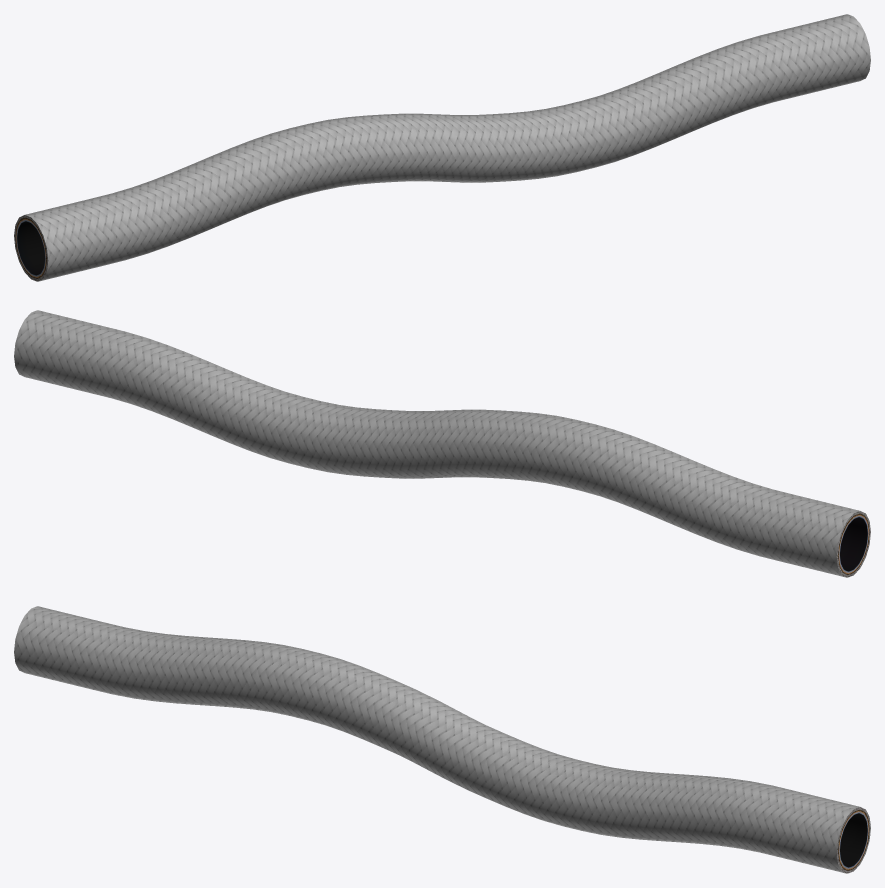
3 views of the same model, one above another, from view 1: azimuth 30°, elevation 25°; view 2: azimuth 150°, elevation 25°; view 3: azimuth 330°, elevation 25° (orthographic).
Parts seen in each view (by area): view 1: Stainless_Steel_Braid-20.001; view 2: Stainless_Steel_Braid-20.001; view 3: Stainless_Steel_Braid-20.001.
Boxes of the visible parts, left/top/right/bottom form: Stainless_Steel_Braid-20.001: left=14, top=14, right=870, bottom=281; Stainless_Steel_Braid-20.001: left=14, top=310, right=870, bottom=577; Stainless_Steel_Braid-20.001: left=14, top=606, right=870, bottom=873.
Bounding box in the file's own units: 0.5 × 0.0615 × 0.0361.
Materials: 2 (2 with a texture image).
